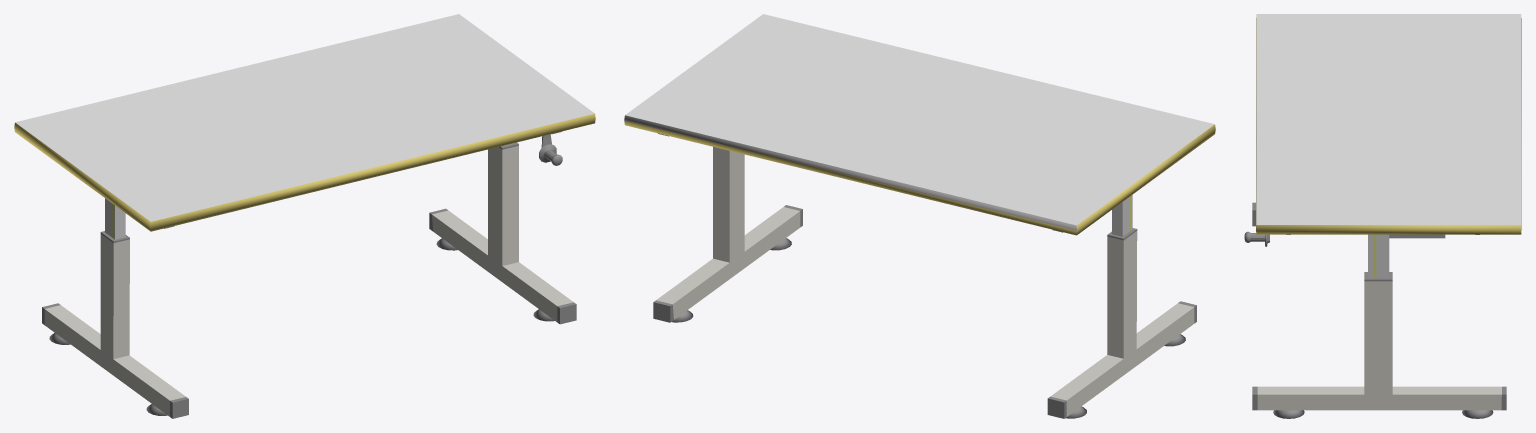
File: Desk_1.dae
3 renders of one model, left to right at view 1: azimuth 30°, elevation 25°; view 2: azimuth 150°, elevation 25°; view 3: azimuth 270°, elevation 25°, orthographic. The views are drawn at different scales.
Visible parts, largest first — view 1: Desk_1; view 2: Desk_1; view 3: Desk_1.
Boxes of the visible parts, bbox=[...] form: Desk_1: bbox=[14, 14, 595, 418]; Desk_1: bbox=[624, 14, 1215, 418]; Desk_1: bbox=[1244, 14, 1521, 418].
Size of the model in its own units: 1.56 by 0.8657 by 0.6927.
